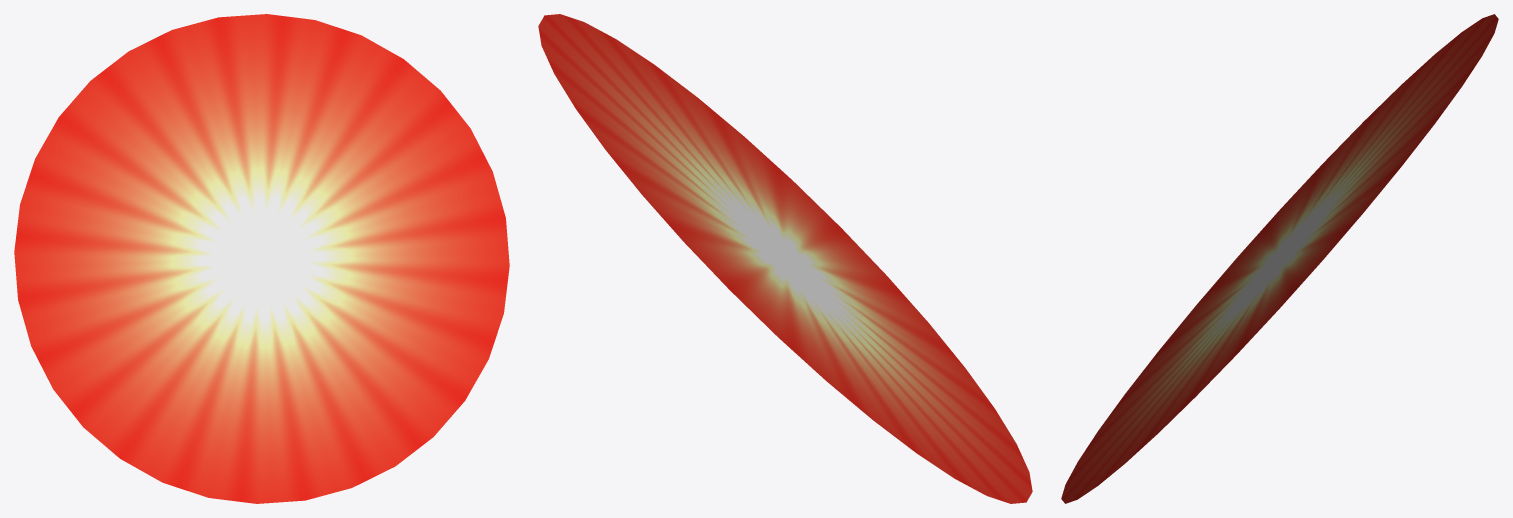
Rendered from sun_radiant.obj.
The picture shows the model from 3 angles, left to right: view 1: azimuth 30°, elevation 25°; view 2: azimuth 150°, elevation 25°; view 3: azimuth 270°, elevation 25°; orthographic projection. The views are drawn at different scales.
Bounding box in the file's own units: 51.88 × 46.44 × 37.49.
1 material, 1 textured.
